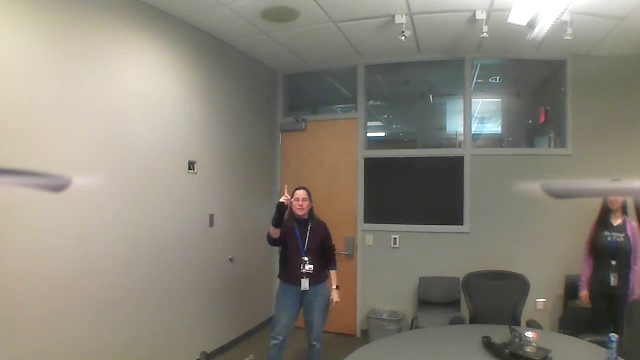up: (278, 182, 294, 210)
